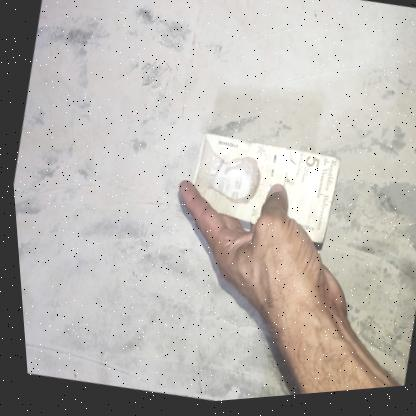five-front-vef: (176, 125, 345, 259)
